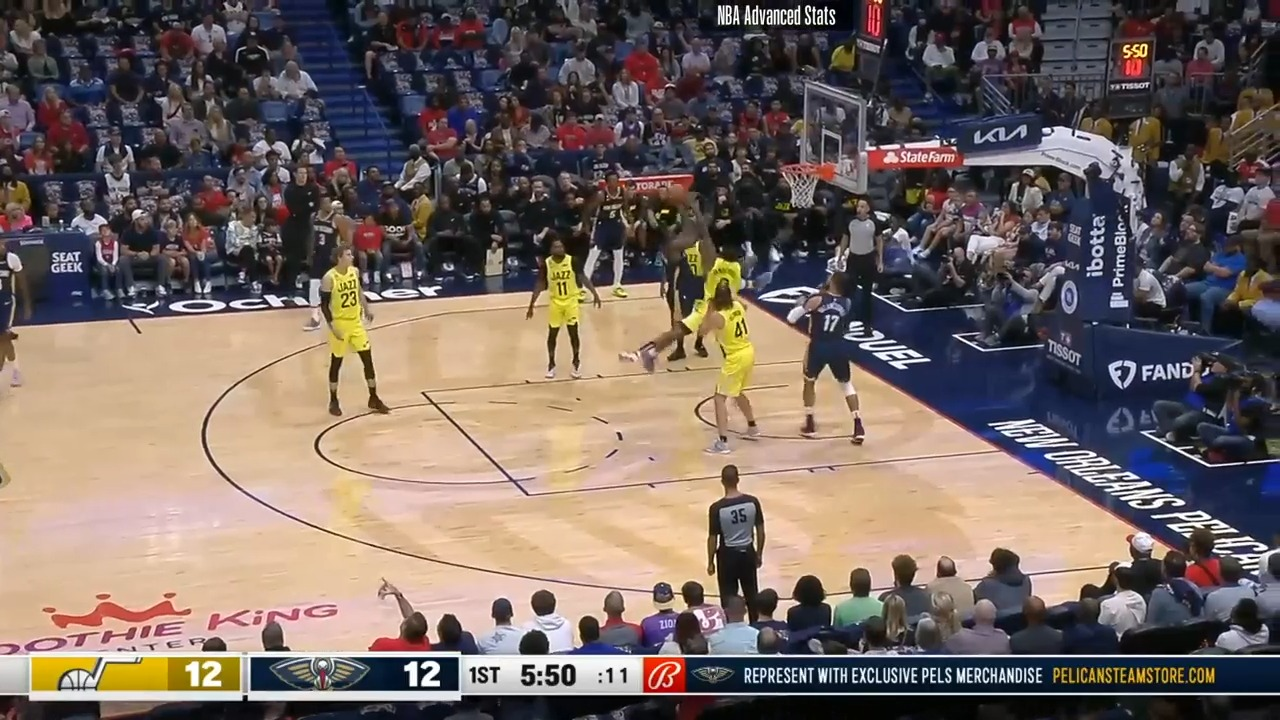net: (780, 158, 840, 214)
player: (787, 275, 872, 449), (639, 208, 720, 376), (645, 237, 745, 370), (696, 283, 765, 458), (314, 246, 381, 418), (533, 237, 597, 384), (579, 170, 633, 303), (300, 191, 345, 335), (0, 235, 26, 393)
referee: (701, 464, 768, 608), (833, 199, 886, 337)
